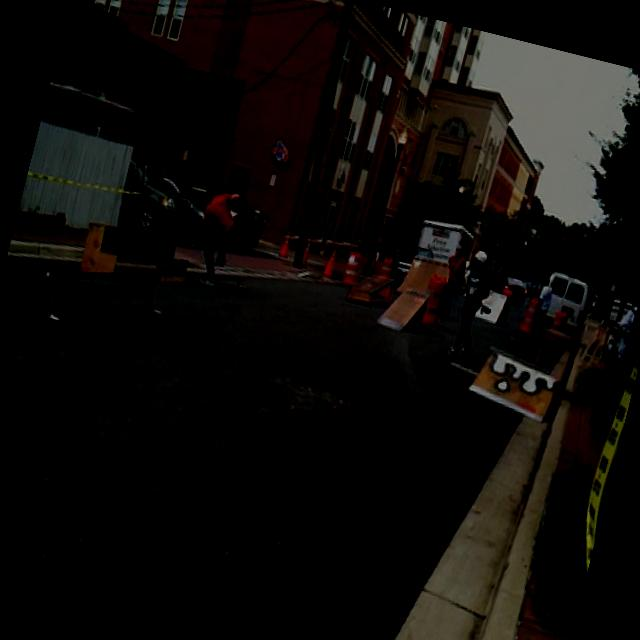Vehicle: (116, 158, 202, 240), (140, 160, 216, 236), (536, 268, 596, 336), (414, 217, 478, 267), (220, 199, 271, 250), (388, 240, 436, 288), (500, 275, 530, 309)
